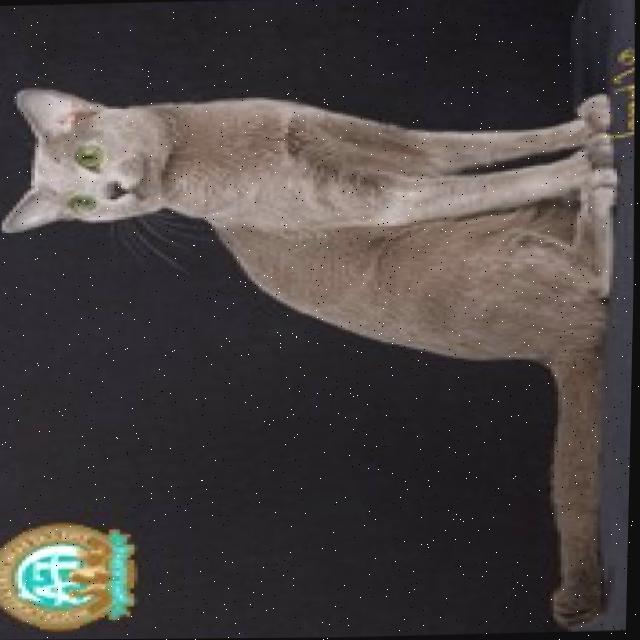Russian Blue: (0, 65, 622, 640)
